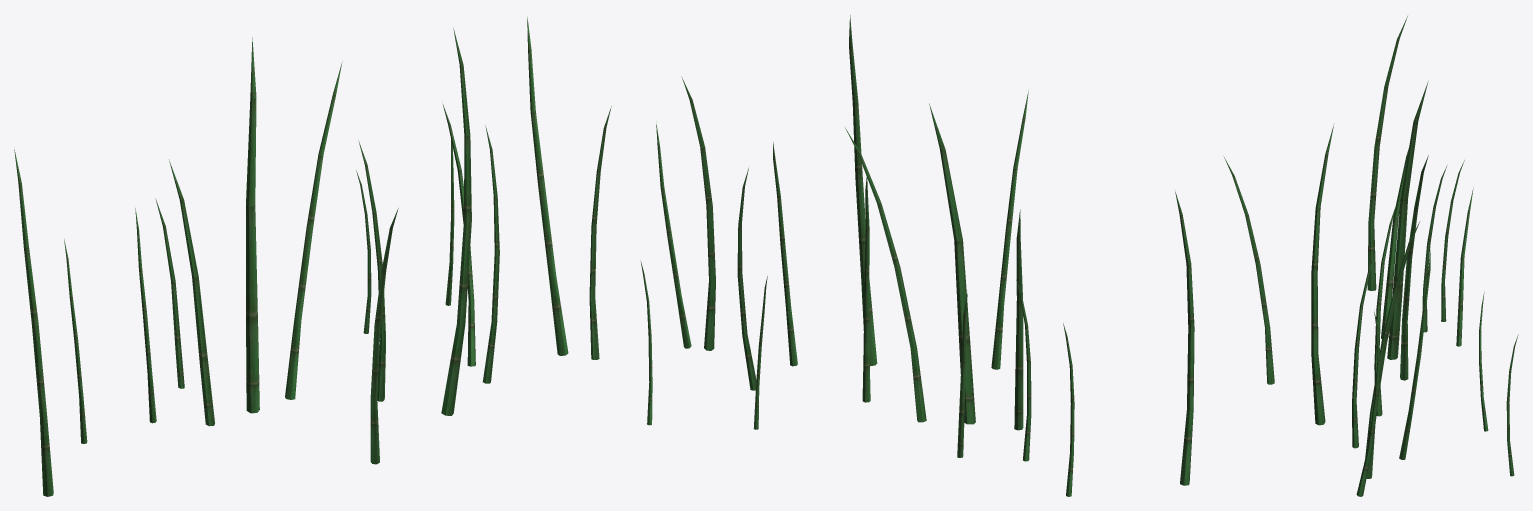
File: Area_09_56.fbx
The picture shows the model from 3 angles, left to right: view 1: azimuth 30°, elevation 25°; view 2: azimuth 150°, elevation 25°; view 3: azimuth 270°, elevation 25°; orthographic projection. The views are drawn at different scales.
Parts seen in each view (by area): view 1: Area_09_56; view 2: Area_09_56; view 3: Area_09_56.
Boxes of the visible parts, left/top/right/bottom form: Area_09_56: left=14, top=17, right=611, bottom=496; Area_09_56: left=640, top=15, right=1194, bottom=496; Area_09_56: left=1224, top=16, right=1518, bottom=496.
Size of the model in its own units: 2788 by 1803 by 1518.
